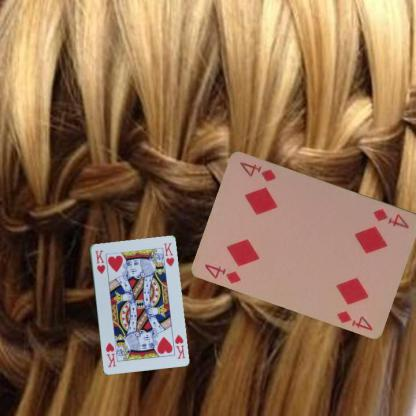4d: (370, 206, 411, 230), (202, 261, 243, 285)
Kh: (92, 247, 107, 275), (172, 332, 186, 360)
